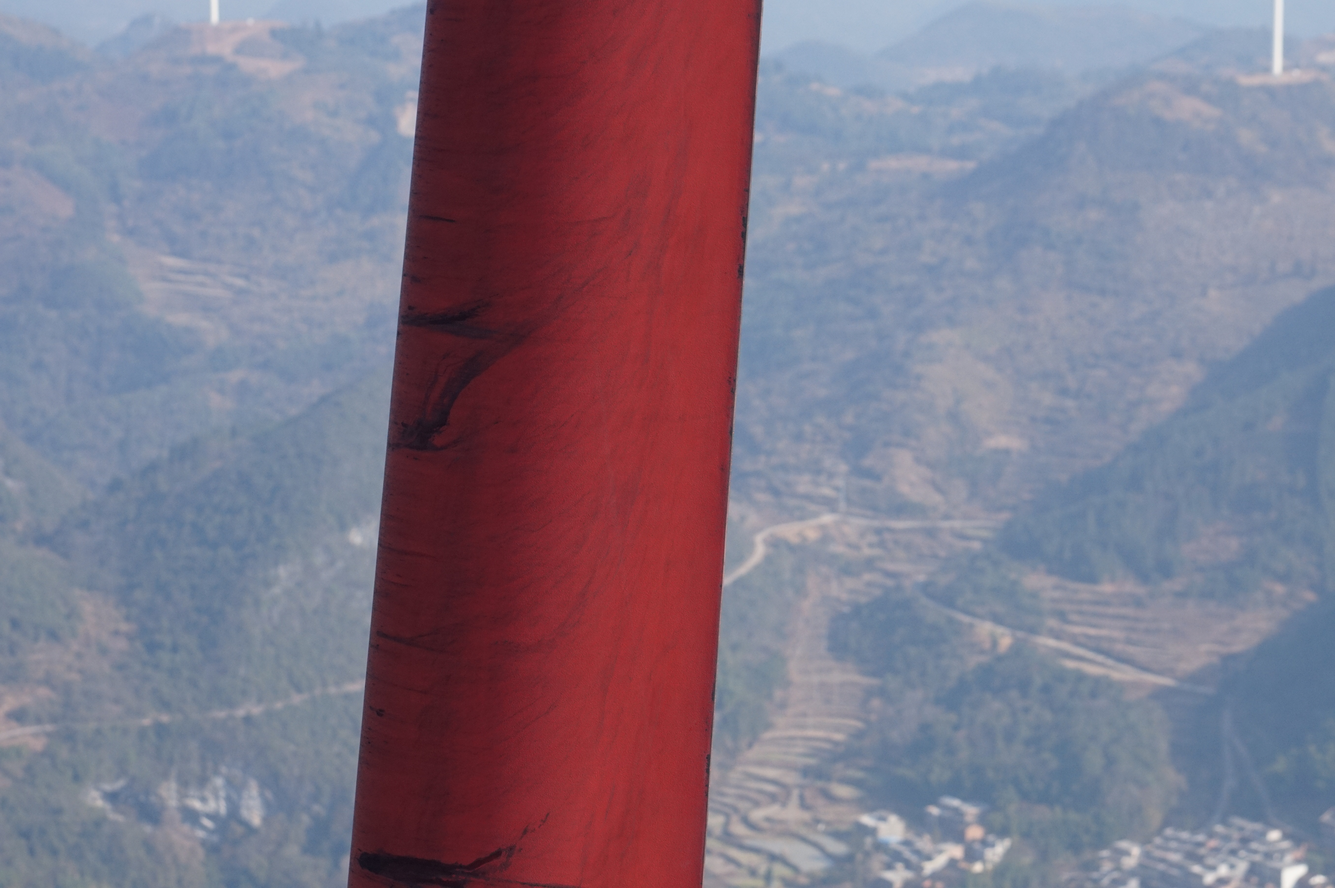Dirt: (387, 342, 512, 453), (356, 847, 513, 888), (399, 298, 501, 339)
